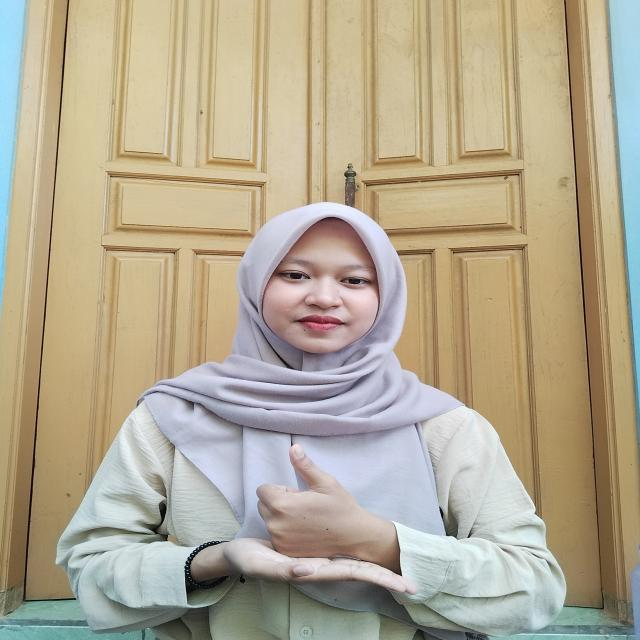cantik: (170, 429, 419, 608)
